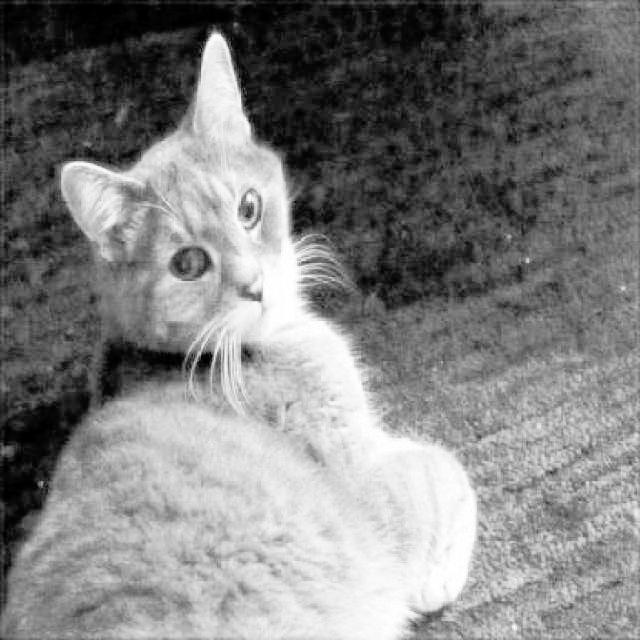Cat: (0, 23, 478, 640)
